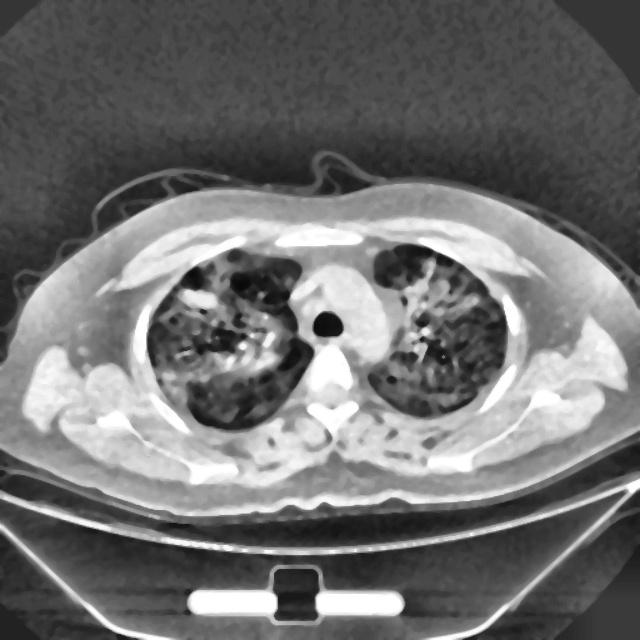covid: (3, 168, 636, 524)
